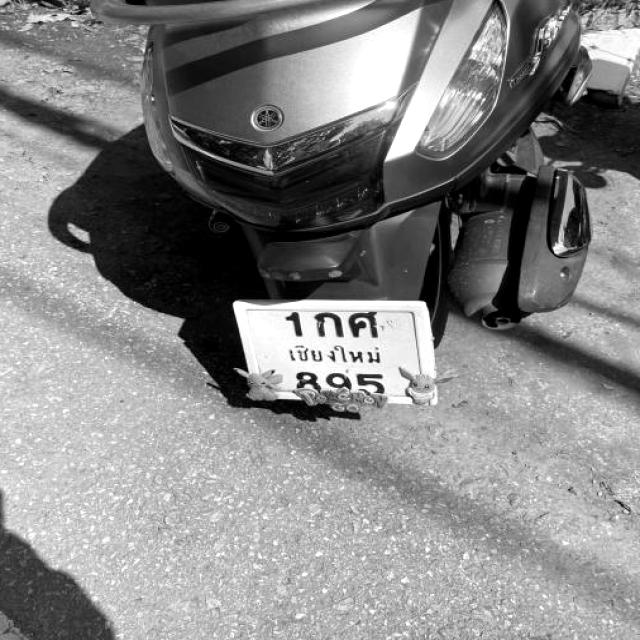letters: (345, 312, 382, 338), (355, 366, 384, 399), (308, 315, 343, 340), (324, 374, 353, 401), (288, 371, 320, 393), (284, 312, 307, 338)
license-plate: (239, 301, 428, 404)
province: (282, 342, 396, 365)
